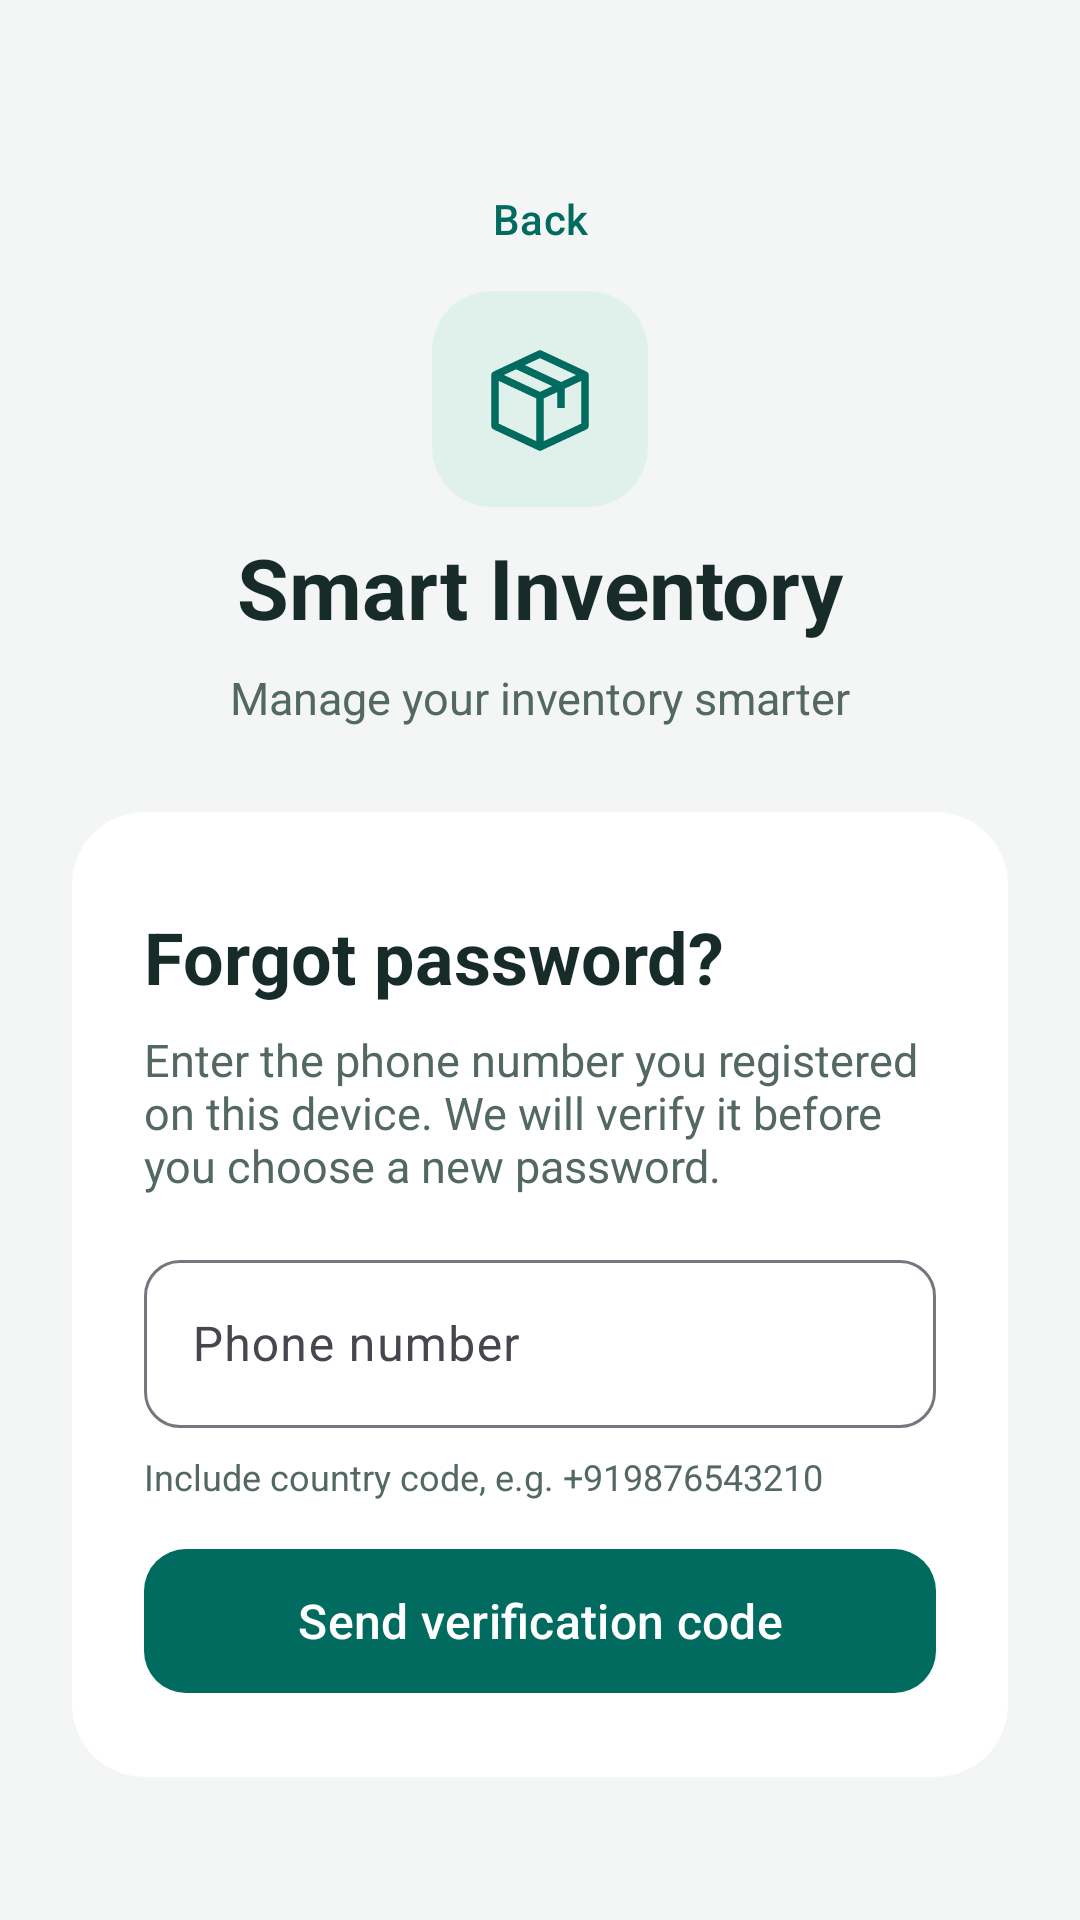

Where to tap for icons on this 1080x1920 app screen, as [x,y]:
inventory mark: [540,399]
